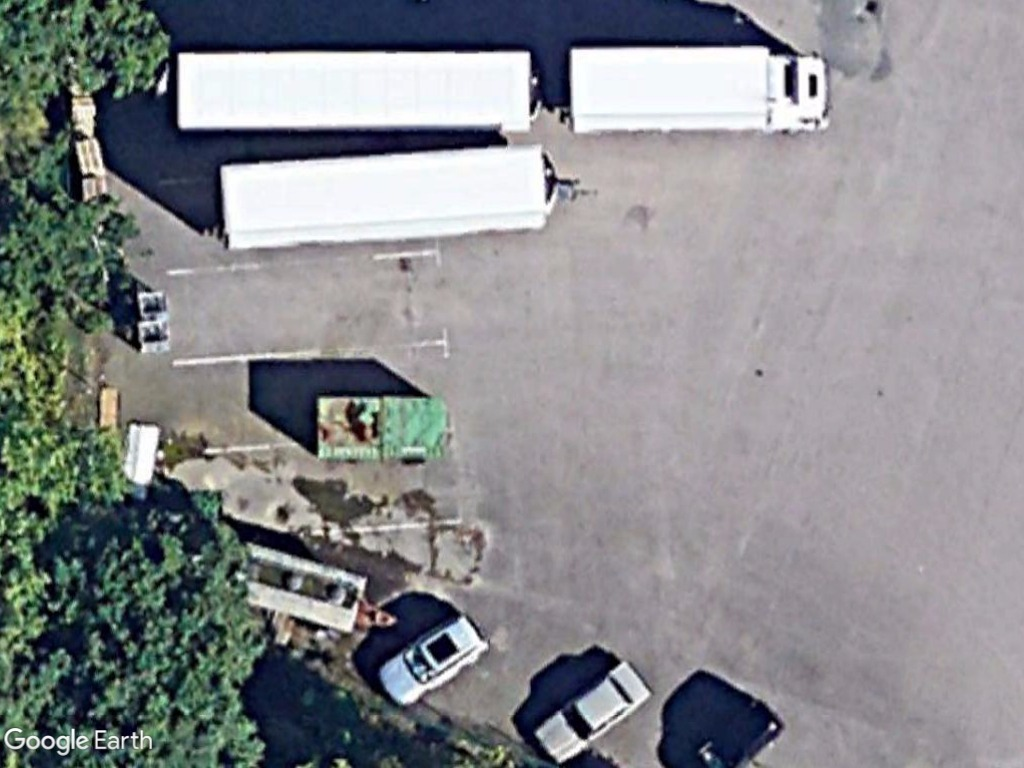car: (529, 658, 652, 768), (370, 611, 498, 714)
truck: (561, 39, 832, 148)
